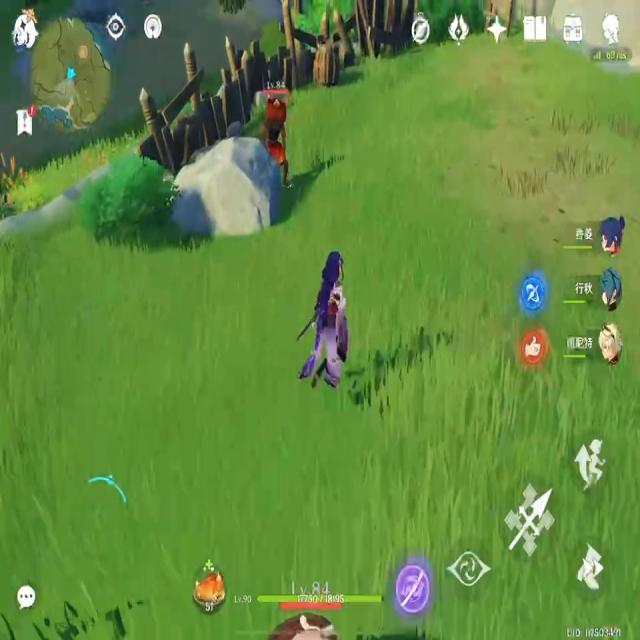genshin-hilichurls: (261, 79, 303, 192)
